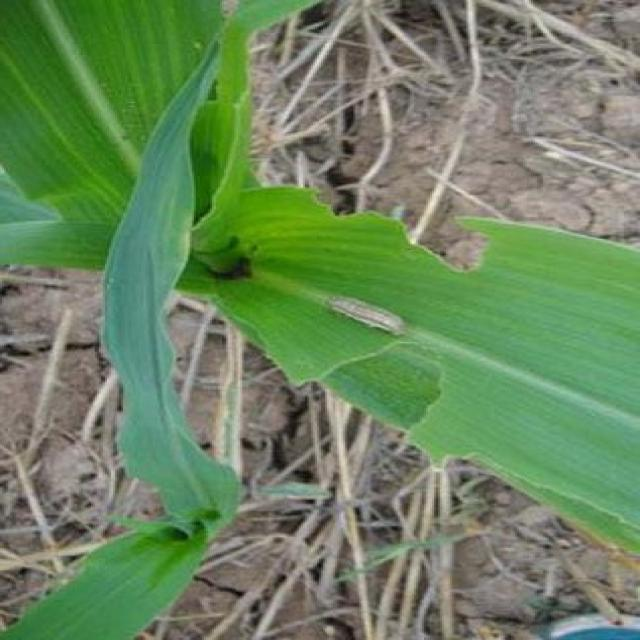army worm: (318, 295, 415, 339)
